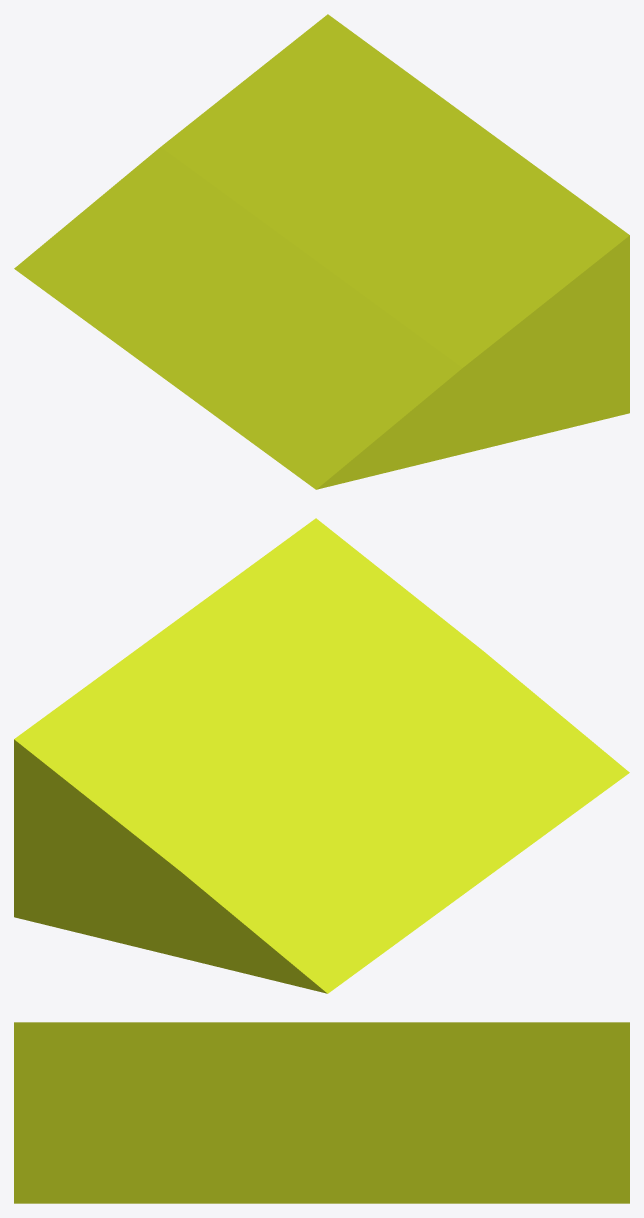
Rendered from Robot Neck Left.fbx.
3 renders of one model, top to bottom at view 1: azimuth 30°, elevation 25°; view 2: azimuth 150°, elevation 25°; view 3: azimuth 270°, elevation 25°, orthographic.
Visible parts, largest first — view 1: Cube.002; view 2: Cube.002; view 3: Cube.002.
Boxes of the visible parts, x1,y1,x2,y2 form: Cube.002: [14, 14, 629, 489]; Cube.002: [14, 518, 629, 993]; Cube.002: [14, 1022, 629, 1203].
Bounding box in the file's own units: 120 × 65.02 × 200.
